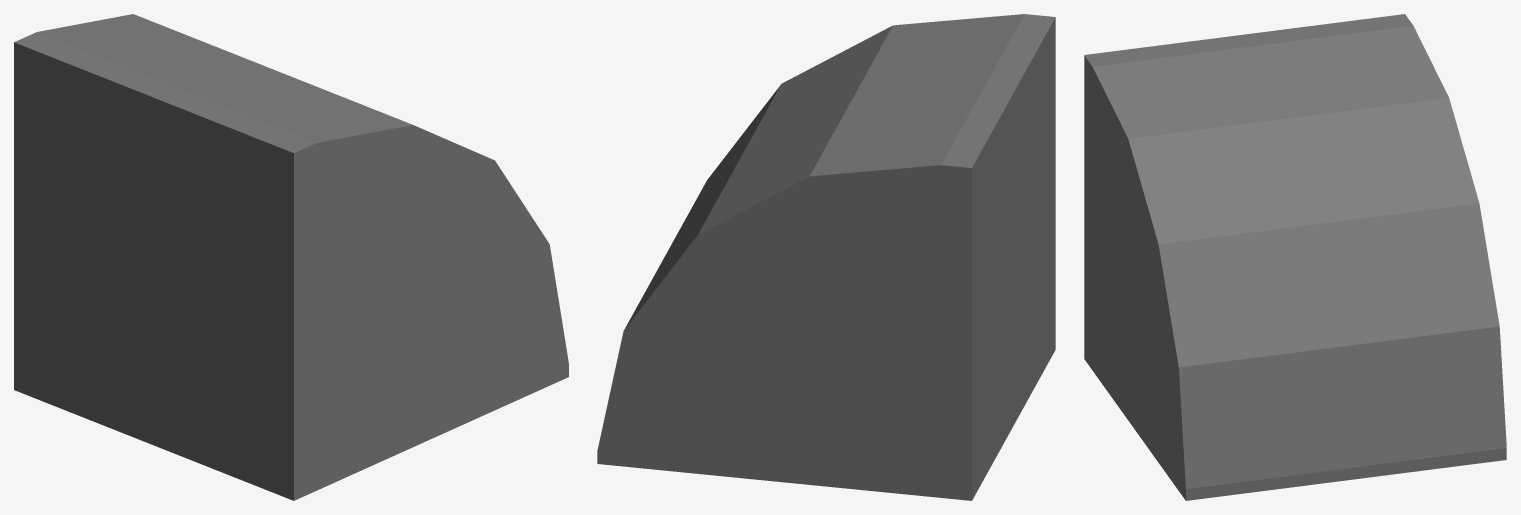
Rendered from Building Vent turn 1.fbx.
3 views of the same model, side by side, from view 1: azimuth 30°, elevation 25°; view 2: azimuth 150°, elevation 25°; view 3: azimuth 270°, elevation 25° (orthographic). The views are drawn at different scales.
Visible parts, largest first — view 1: Building Vent turn 1; view 2: Building Vent turn 1; view 3: Building Vent turn 1.
Part boxes in pixels (x1,y1,x2,y2): Building Vent turn 1: [14, 14, 568, 500]; Building Vent turn 1: [597, 14, 1055, 500]; Building Vent turn 1: [1084, 14, 1506, 500].
Size of the model in its own units: 139 by 136 by 108.
